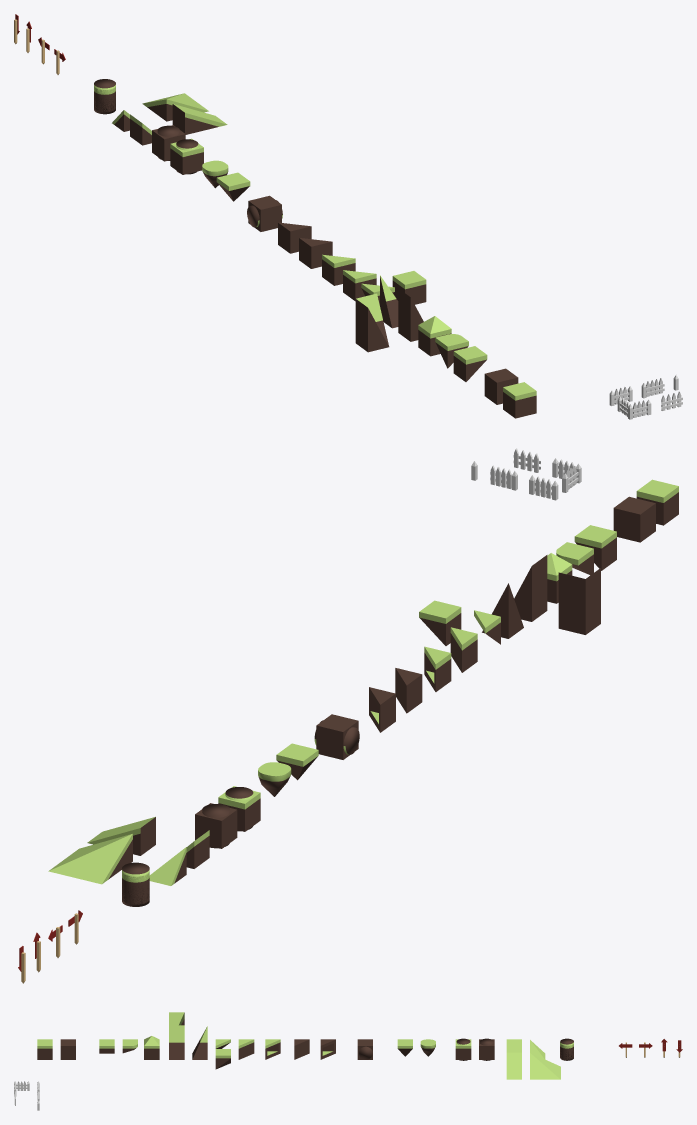
The model's file is Tiles 07.dae.
3 renders of one model, top to bottom at view 1: azimuth 30°, elevation 25°; view 2: azimuth 150°, elevation 25°; view 3: azimuth 270°, elevation 25°, orthographic. The views are drawn at different scales.
Visible parts, largest first — view 1: 18 Wall Slanted Concave Corner -col, 01 Ground Base -col, 19 Ground Slope2 -col, 05 Wall Slanted -col, 02 Ground Edge -col, 15 Ground Trinagle Alternative -col, 04 Ground Spike -col, 13 Ground Hole -col, 10 Ground Block Hollow -col, 19b Ground Slope2 Corner -col, 01b Ground Block -col, 09 Ground Triangle Block -col (+6 smaller); view 2: 18 Wall Slanted Concave Corner -col, 19b Ground Slope2 Corner -col, 01b Ground Block -col, 05 Wall Slanted -col, 10 Ground Block Hollow -col, 01 Ground Base -col, 14 Ground Block Hole -col, 15 Ground Trinagle Alternative -col, 02 Ground Edge -col, 19 Ground Slope2 -col, 08 Ground Trinagle 2 -col, 09b Ground Triangle Hollow -col.001 (+9 smaller); view 3: 19b Ground Slope2 Corner -col, 05 Wall Slanted -col, 19 Ground Slope2 -col, 04 Ground Spike -col, 01 Ground Base -col, 01b Ground Block -col, 06 Wall Slanted Corner -col, 08 Ground Trinagle 2 -col, 09b Ground Triangle Block Hollow -col, 09 Ground Triangle Block -col, 09b Ground Triangle Hollow -col.001, 13 Ground Hole -col (+11 smaller).
Part boxes in pixels (bbox=[...]): 18 Wall Slanted Concave Corner -col: bbox=[355, 293, 389, 352]; 01 Ground Base -col: bbox=[503, 382, 536, 418]; 19 Ground Slope2 -col: bbox=[172, 104, 227, 134]; 05 Wall Slanted -col: bbox=[398, 288, 423, 341]; 02 Ground Edge -col: bbox=[453, 346, 487, 381]; 15 Ground Trinagle Alternative -col: bbox=[392, 271, 426, 304]; 04 Ground Spike -col: bbox=[418, 316, 451, 356]; 13 Ground Hole -col: bbox=[170, 138, 203, 174]; 10 Ground Block Hollow -col: bbox=[248, 195, 281, 231]; 19b Ground Slope2 Corner -col: bbox=[142, 93, 208, 121]; 01b Ground Block -col: bbox=[484, 368, 518, 404]; 09 Ground Triangle Block -col: bbox=[299, 238, 332, 268]; 18 Wall Slanted Concave Corner -col: bbox=[558, 568, 600, 634]; 19b Ground Slope2 Corner -col: bbox=[48, 833, 132, 884]; 01b Ground Block -col: bbox=[613, 496, 655, 542]; 05 Wall Slanted -col: bbox=[514, 555, 547, 621]; 10 Ground Block Hollow -col: bbox=[316, 714, 358, 759]; 01 Ground Base -col: bbox=[636, 479, 678, 525]; 14 Ground Block Hole -col: bbox=[195, 803, 237, 848]; 15 Ground Trinagle Alternative -col: bbox=[419, 600, 461, 645]; 02 Ground Edge -col: bbox=[574, 525, 616, 570]; 19 Ground Slope2 -col: bbox=[87, 816, 155, 855]; 08 Ground Trinagle 2 -col: bbox=[450, 627, 477, 672]; 09b Ground Triangle Hollow -col.001: bbox=[424, 646, 451, 691]; 19b Ground Slope2 Corner -col: bbox=[530, 1053, 560, 1079]; 05 Wall Slanted -col: bbox=[169, 1025, 184, 1059]; 19 Ground Slope2 -col: bbox=[506, 1052, 521, 1079]; 04 Ground Spike -col: bbox=[144, 1036, 159, 1059]; 01 Ground Base -col: bbox=[37, 1039, 52, 1059]; 01b Ground Block -col: bbox=[60, 1039, 75, 1059]; 06 Wall Slanted Corner -col: bbox=[192, 1026, 207, 1059]; 08 Ground Trinagle 2 -col: bbox=[238, 1039, 254, 1059]; 09b Ground Triangle Block Hollow -col: bbox=[320, 1039, 335, 1059]; 09 Ground Triangle Block -col: bbox=[294, 1039, 309, 1059]; 09b Ground Triangle Hollow -col.001: bbox=[265, 1039, 280, 1059]; 13 Ground Hole -col: bbox=[455, 1039, 471, 1059].
Size of what is drawn, in the model's own units: 19.31 by 86.31 by 5.
